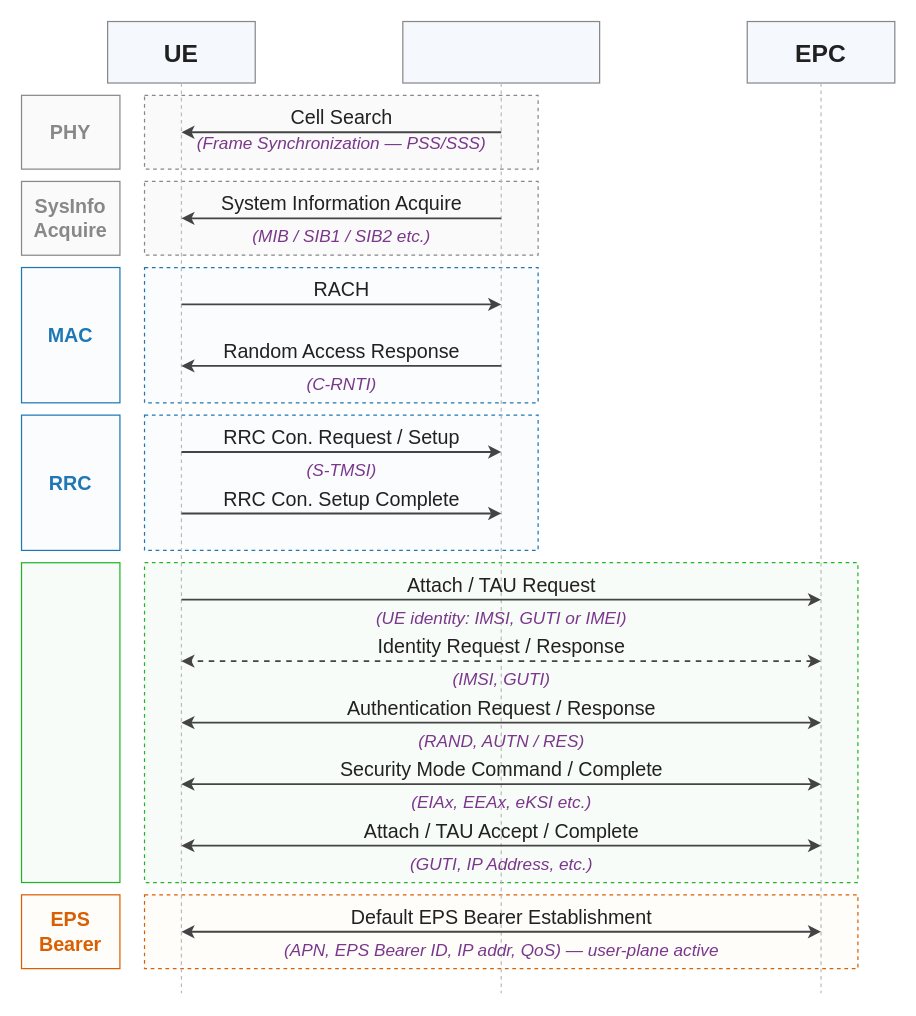
The diagram is 916 pixels wide and 1016 high, and some of its shapes have lost their labels. The centre of each missing label's shape, as x and y in pixels:
E-UTRAN: pixel 501 51
NAS: pixel 70 722
